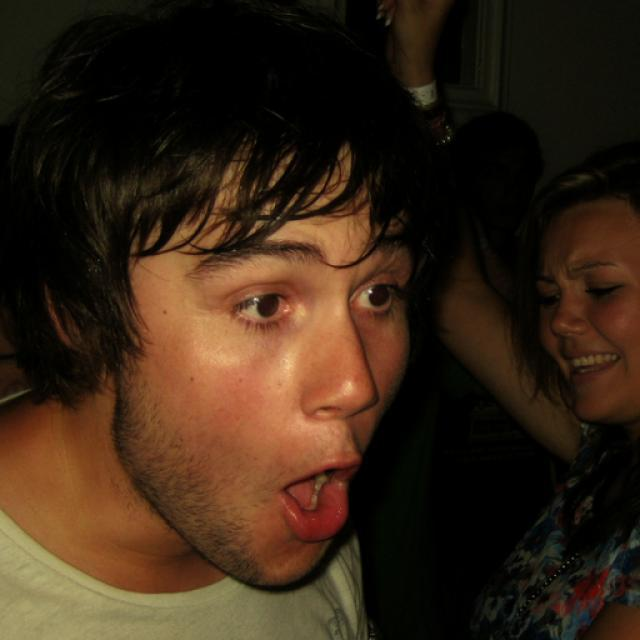surprise: (118, 121, 412, 591)
